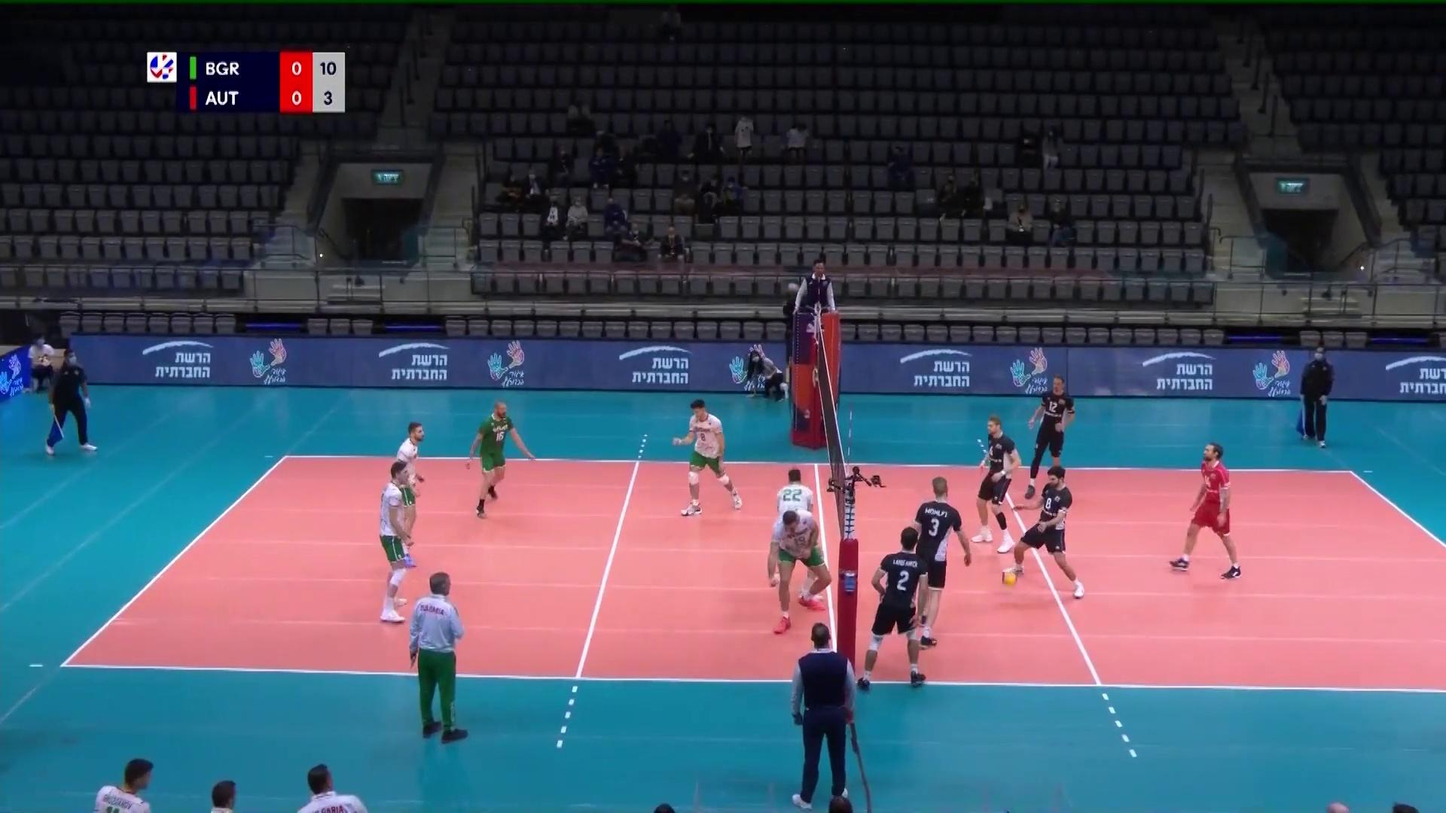ball: (1001, 573, 1017, 586)
